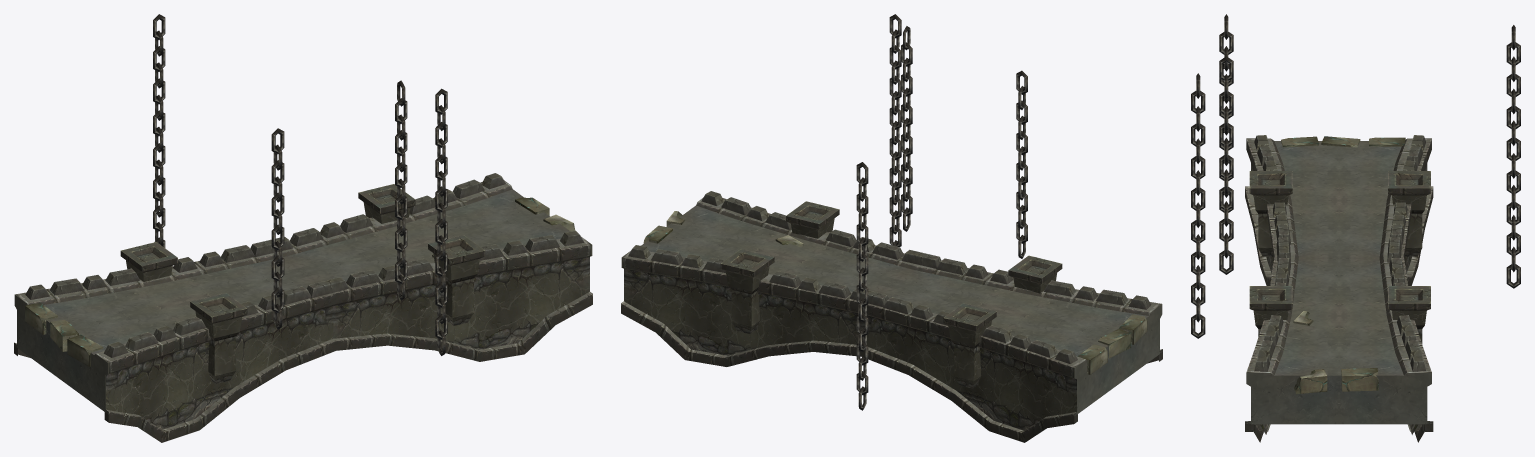
File: bridge.fbx
3 views of the same model, side by side, from view 1: azimuth 30°, elevation 25°; view 2: azimuth 150°, elevation 25°; view 3: azimuth 270°, elevation 25° (orthographic). The views are drawn at different scales.
Visible parts, largest first — view 1: bridge; view 2: bridge; view 3: bridge.
Part boxes in pixels (x1,y1,x2,y2): bridge: (14, 14, 592, 442); bridge: (621, 14, 1162, 442); bridge: (1191, 14, 1520, 442).
Size of the model in its own units: 15.58 by 9.54 by 8.95.
